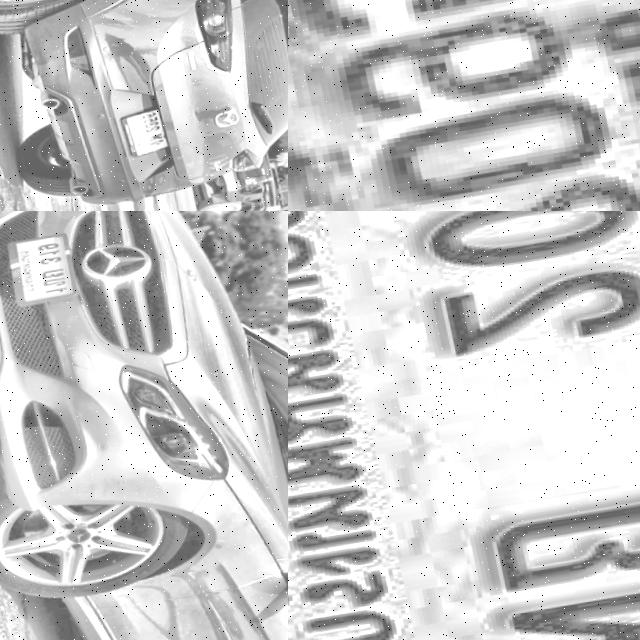license-plate: (288, 211, 640, 640), (288, 0, 640, 211), (6, 231, 77, 309), (110, 110, 166, 160)
